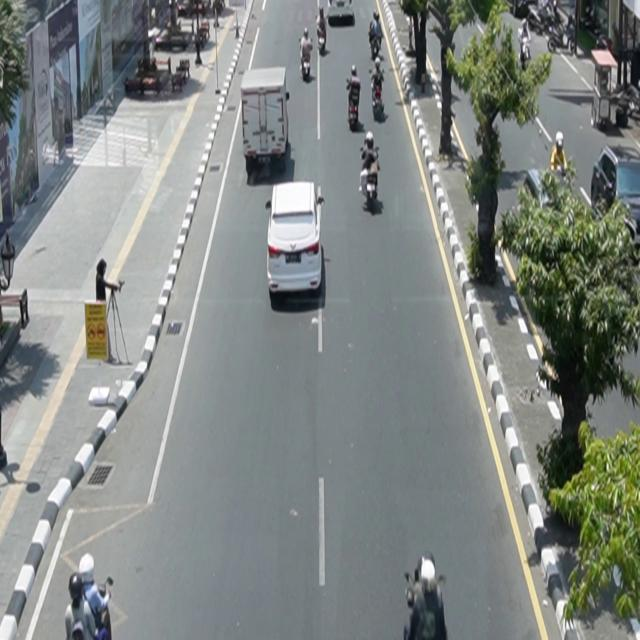car: (266, 181, 326, 296)
truck: (241, 67, 291, 175)
